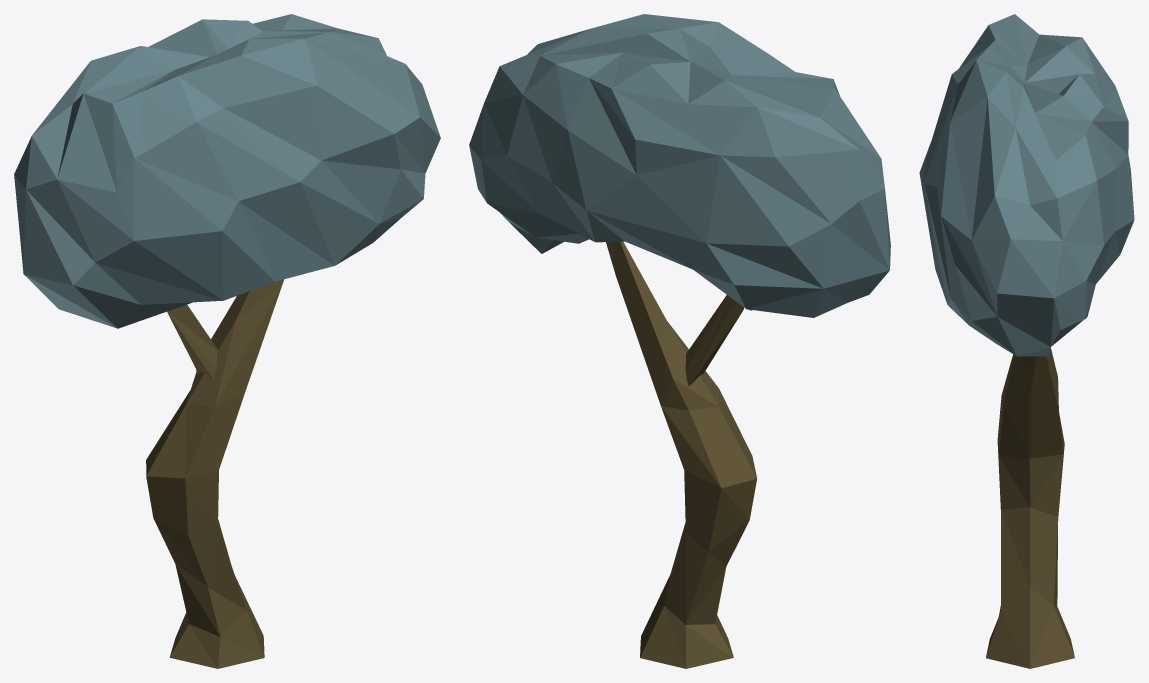
Rendered from tree1.obj.
3 renders of one model, left to right at view 1: azimuth 30°, elevation 25°; view 2: azimuth 150°, elevation 25°; view 3: azimuth 270°, elevation 25°, orthographic. The views are drawn at different scales.
Parts seen in each view (by area): view 1: Leaves, Trunk; view 2: Leaves, Trunk; view 3: Leaves, Trunk.
Part boxes in pixels (left/top/right/bottom): Leaves: left=14, top=14, right=440, bottom=328; Trunk: left=146, top=279, right=283, bottom=668; Leaves: left=469, top=14, right=890, bottom=317; Trunk: left=606, top=241, right=757, bottom=668; Leaves: left=919, top=14, right=1134, bottom=356; Trunk: left=986, top=347, right=1074, bottom=668.
Size of the model in its own units: 241 by 348 by 115.
